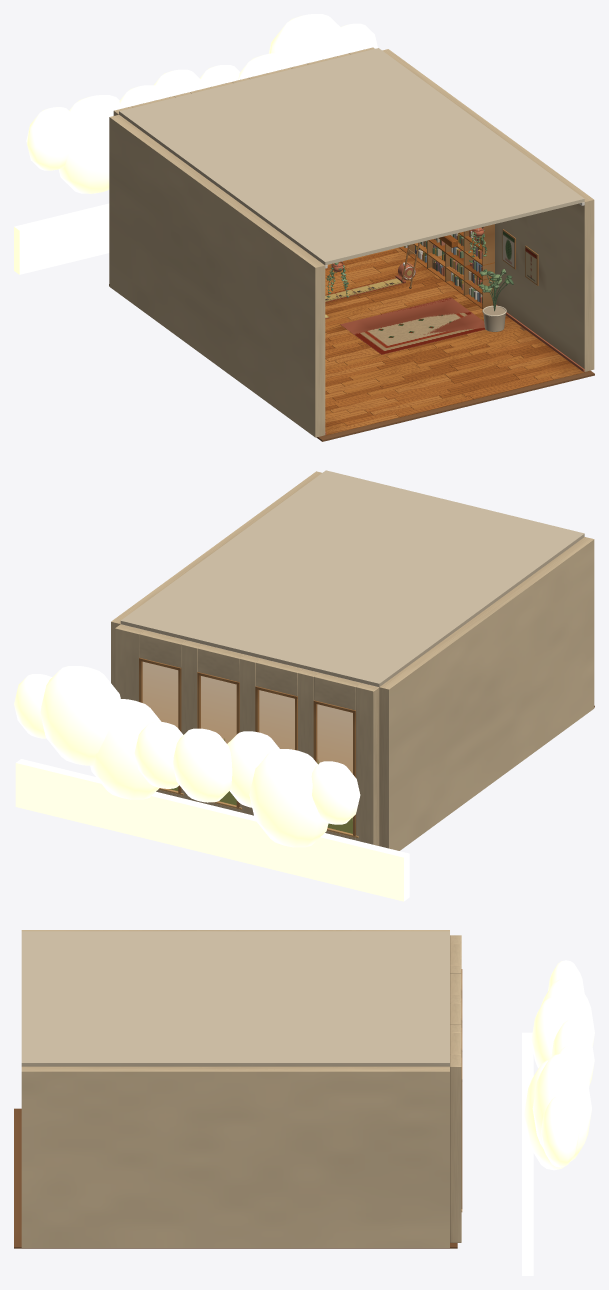
The model's file is sunlit-atrium.glb.
The picture shows the model from 3 angles, top to bottom: view 1: azimuth 30°, elevation 25°; view 2: azimuth 150°, elevation 25°; view 3: azimuth 270°, elevation 25°; orthographic projection. The views are drawn at different scales.
Visible parts, largest first — view 1: set_cream_dk, set_plaster, set_tree_noshadow, set_wood_2, set_wood_0, set_wood_3, set_wood_1, set_hedge_noshadow, set_terra_dk, set_rug, set_honey_dk, set_walnut (+3 smaller); view 2: set_plaster, set_cream_dk, set_tree_noshadow, set_hedge_noshadow, set_win_glass_noshadow, set_honey_dk; view 3: set_plaster, set_cream_dk, set_tree_noshadow, set_hedge_noshadow, set_walnut, set_honey_dk.
Boxes of the visible parts, left/top/right/bottom form: set_cream_dk: left=119, top=48, right=584, bottom=331; set_plaster: left=109, top=47, right=594, bottom=437; set_tree_noshadow: left=26, top=14, right=377, bottom=193; set_wood_2: left=325, top=235, right=570, bottom=427; set_wood_0: left=325, top=246, right=574, bottom=425; set_wood_3: left=325, top=242, right=578, bottom=431; set_wood_1: left=325, top=243, right=584, bottom=435; set_hedge_noshadow: left=14, top=203, right=109, bottom=274; set_terra_dk: left=325, top=227, right=485, bottom=354; set_rug: left=355, top=297, right=484, bottom=354; set_honey_dk: left=401, top=224, right=538, bottom=308; set_walnut: left=109, top=284, right=594, bottom=441; set_plaster: left=111, top=471, right=594, bottom=850; set_cream_dk: left=120, top=470, right=584, bottom=686; set_tree_noshadow: left=14, top=666, right=360, bottom=847; set_hedge_noshadow: left=15, top=759, right=409, bottom=901; set_win_glass_noshadow: left=142, top=661, right=352, bottom=833; set_honey_dk: left=139, top=657, right=355, bottom=837; set_plaster: left=21, top=930, right=461, bottom=1247; set_cream_dk: left=21, top=931, right=449, bottom=1066; set_tree_noshadow: left=524, top=960, right=594, bottom=1170; set_hedge_noshadow: left=522, top=1032, right=533, bottom=1275; set_walnut: left=14, top=1108, right=457, bottom=1248; set_honey_dk: left=461, top=969, right=462, bottom=1208.
Bounding box in the file's own units: 12 × 5.17 × 14.93.
64 materials, 36 textured.
